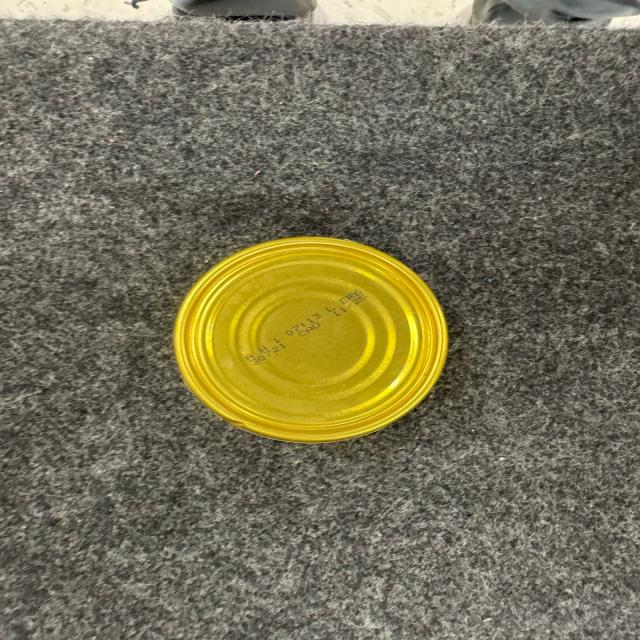Atun Mazatun Agua Sin Soya 130grs: (171, 233, 454, 445)
